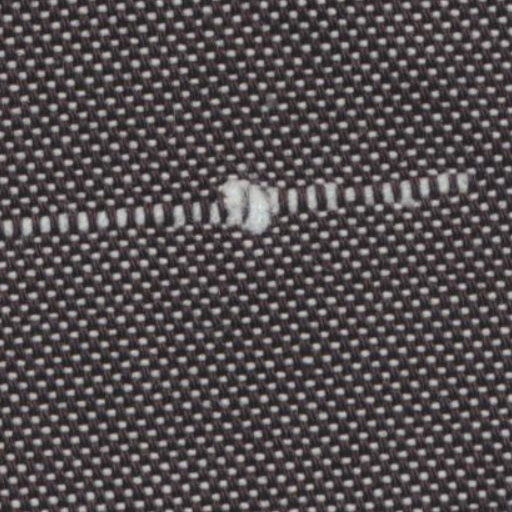DaiSha: (16, 170, 468, 244)
